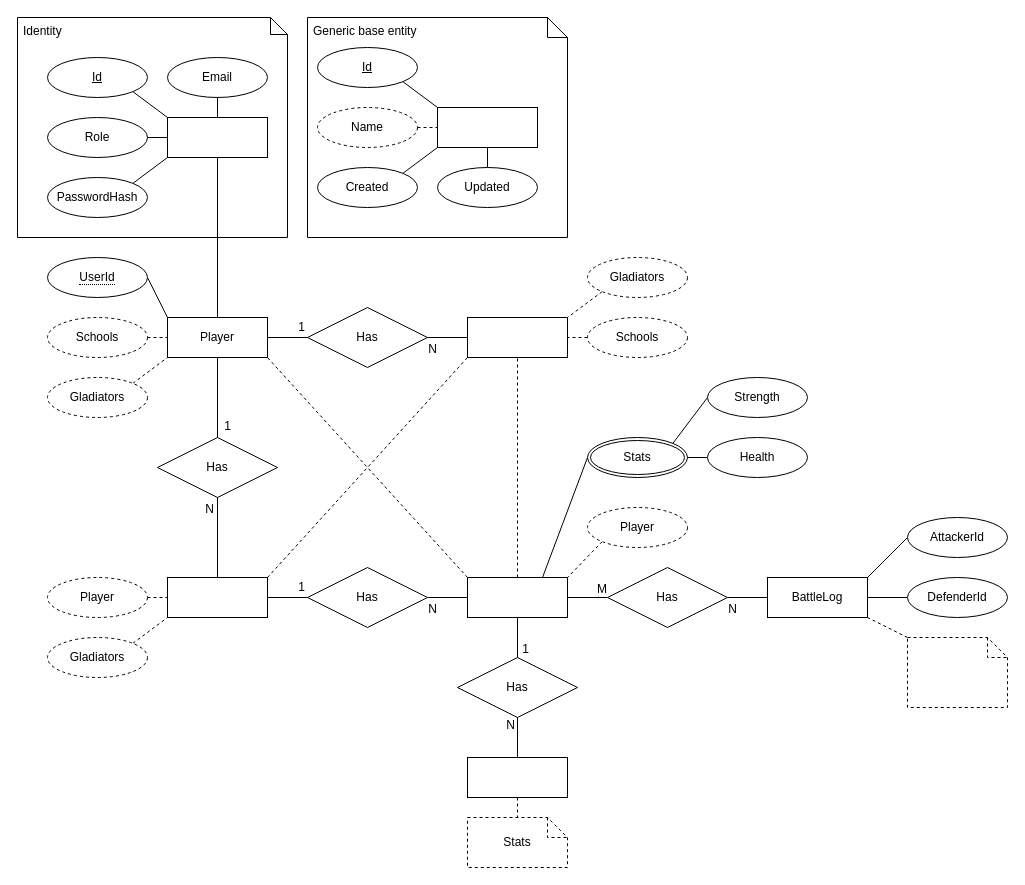
Image size: 1025x885. Some labels were removed from this diagram. Each missing label, with the box of its shape:
Action Loss of stats ...: (906, 636, 1008, 708)
Arena: (466, 316, 568, 358)
Base Entity: (436, 106, 538, 148)
Gear: (466, 756, 568, 798)
Gladiator: (466, 576, 568, 618)
School: (166, 576, 268, 618)
User: (166, 116, 268, 158)
